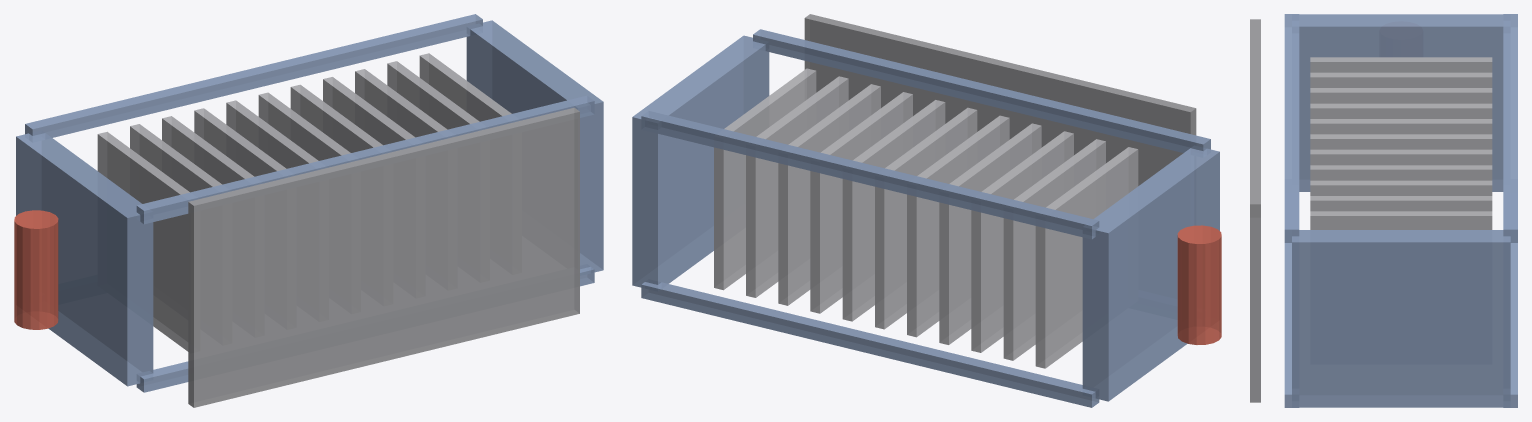
Rendered from filtration_press.glb.
The picture shows the model from 3 angles, left to right: view 1: azimuth 30°, elevation 25°; view 2: azimuth 150°, elevation 25°; view 3: azimuth 270°, elevation 25°; orthographic projection.
Visible parts, largest first — view 1: DripTray, EndPlate_-7, EndPlate_7, Rail_6_2.5, FilterPlate_-5, HydCylinder, Rail_0_2.5, FilterPlate_1, FilterPlate_0, FilterPlate_5, FilterPlate_-1, FilterPlate_4 (+6 smaller); view 2: EndPlate_-7, EndPlate_7, DripTray, Rail_6_2.5, Rail_6_-2.5, Rail_0_2.5, FilterPlate_-5, FilterPlate_1, FilterPlate_4, FilterPlate_2, FilterPlate_3, FilterPlate_-1 (+6 smaller); view 3: EndPlate_7, EndPlate_-7, DripTray, Rail_0_2.5, FilterPlate_5, Rail_6_2.5, FilterPlate_1, FilterPlate_0, FilterPlate_2, FilterPlate_-3, FilterPlate_-5, FilterPlate_3 (+6 smaller).
Boxes of the visible parts, box(x1,y1,x2,y2) form: DripTray: box(188, 107, 579, 407); EndPlate_-7: box(16, 131, 153, 386); EndPlate_7: box(466, 20, 603, 275); Rail_6_2.5: box(25, 14, 482, 141); FilterPlate_-5: box(97, 131, 189, 351); HydCylinder: box(14, 210, 58, 329); Rail_0_2.5: box(136, 95, 594, 224); FilterPlate_1: box(290, 84, 382, 152); FilterPlate_0: box(258, 92, 350, 160); FilterPlate_5: box(419, 53, 511, 121); FilterPlate_-1: box(226, 100, 318, 168); FilterPlate_4: box(387, 61, 479, 129); EndPlate_-7: box(1082, 146, 1219, 401); EndPlate_7: box(632, 35, 769, 290); DripTray: box(804, 14, 1196, 185); Rail_6_2.5: box(641, 111, 1099, 239); Rail_6_-2.5: box(641, 280, 1099, 407); Rail_0_2.5: box(753, 29, 1210, 157); FilterPlate_-5: box(1035, 147, 1138, 368); FilterPlate_1: box(842, 100, 945, 321); FilterPlate_4: box(746, 76, 848, 297); FilterPlate_2: box(810, 92, 912, 313); FilterPlate_3: box(778, 84, 880, 305); FilterPlate_-1: box(907, 115, 1009, 337); EndPlate_7: box(1292, 230, 1510, 407); EndPlate_-7: box(1292, 14, 1509, 191); DripTray: box(1250, 19, 1260, 402); Rail_0_2.5: box(1284, 14, 1299, 242); FilterPlate_5: box(1310, 211, 1492, 229); Rail_6_2.5: box(1503, 14, 1517, 242); FilterPlate_1: box(1310, 149, 1492, 165); FilterPlate_0: box(1310, 134, 1492, 149); FilterPlate_2: box(1310, 165, 1492, 180); FilterPlate_-3: box(1310, 88, 1492, 103); FilterPlate_-5: box(1310, 57, 1492, 72); FilterPlate_3: box(1310, 180, 1492, 195).
Bounding box in the file's own units: 16.5 × 6 × 7.35.
